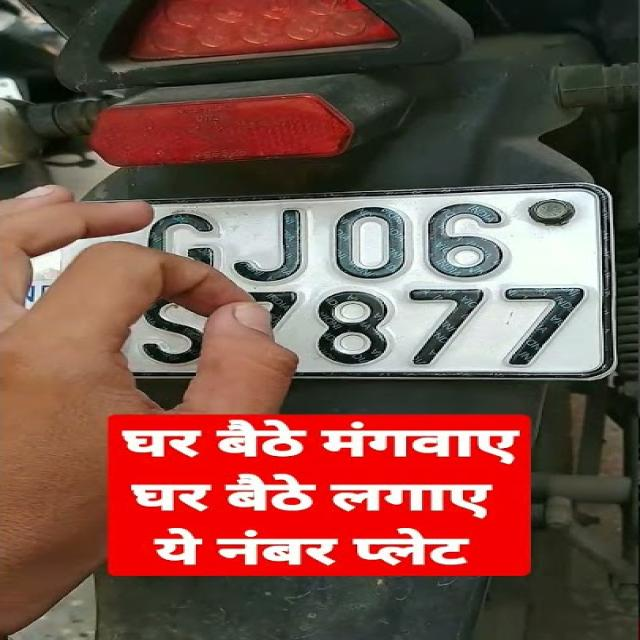plate: (0, 176, 626, 390)
